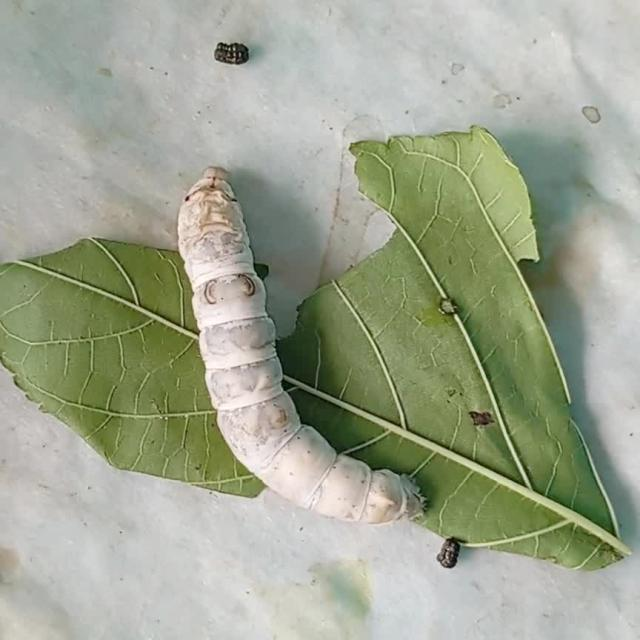Grasserie: (150, 147, 440, 532)
